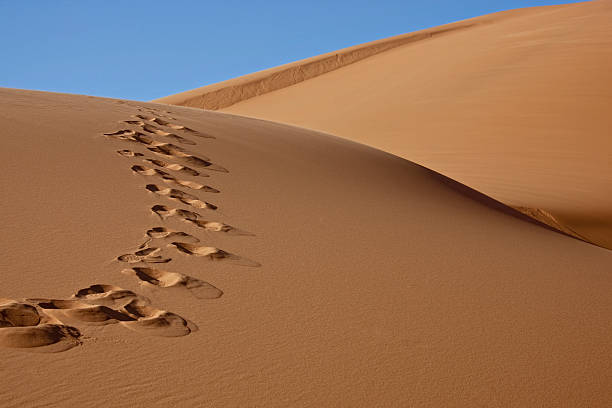human_footprint: (0, 284, 197, 352), (73, 284, 196, 336), (104, 129, 227, 172), (0, 299, 80, 351), (151, 204, 253, 235), (122, 267, 222, 298), (116, 149, 209, 176), (131, 165, 219, 192), (169, 241, 260, 266), (134, 114, 214, 138), (145, 184, 217, 209), (124, 120, 195, 144), (139, 226, 199, 248), (143, 158, 208, 176), (117, 246, 171, 263)
